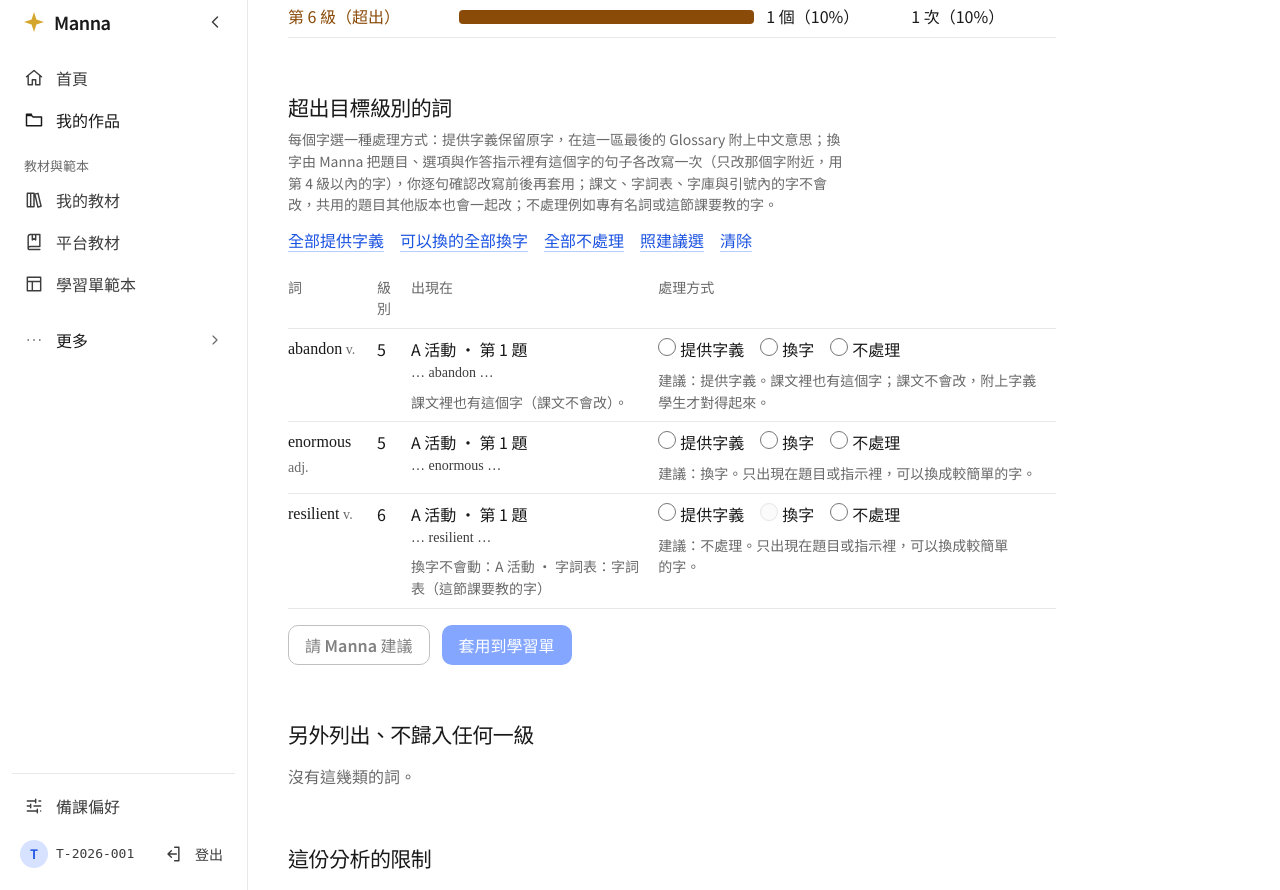
詞彙級別檢查：處理超出級別的字 › does not apply 換字 until a usable sentence is ticked
(page scrolled)
Expected: the heading "超出目標級別的詞" is shown, [288,92,452,122]
Click the radio button with aria-label "enormous：換字" at (769, 440), box [760,431,778,449]
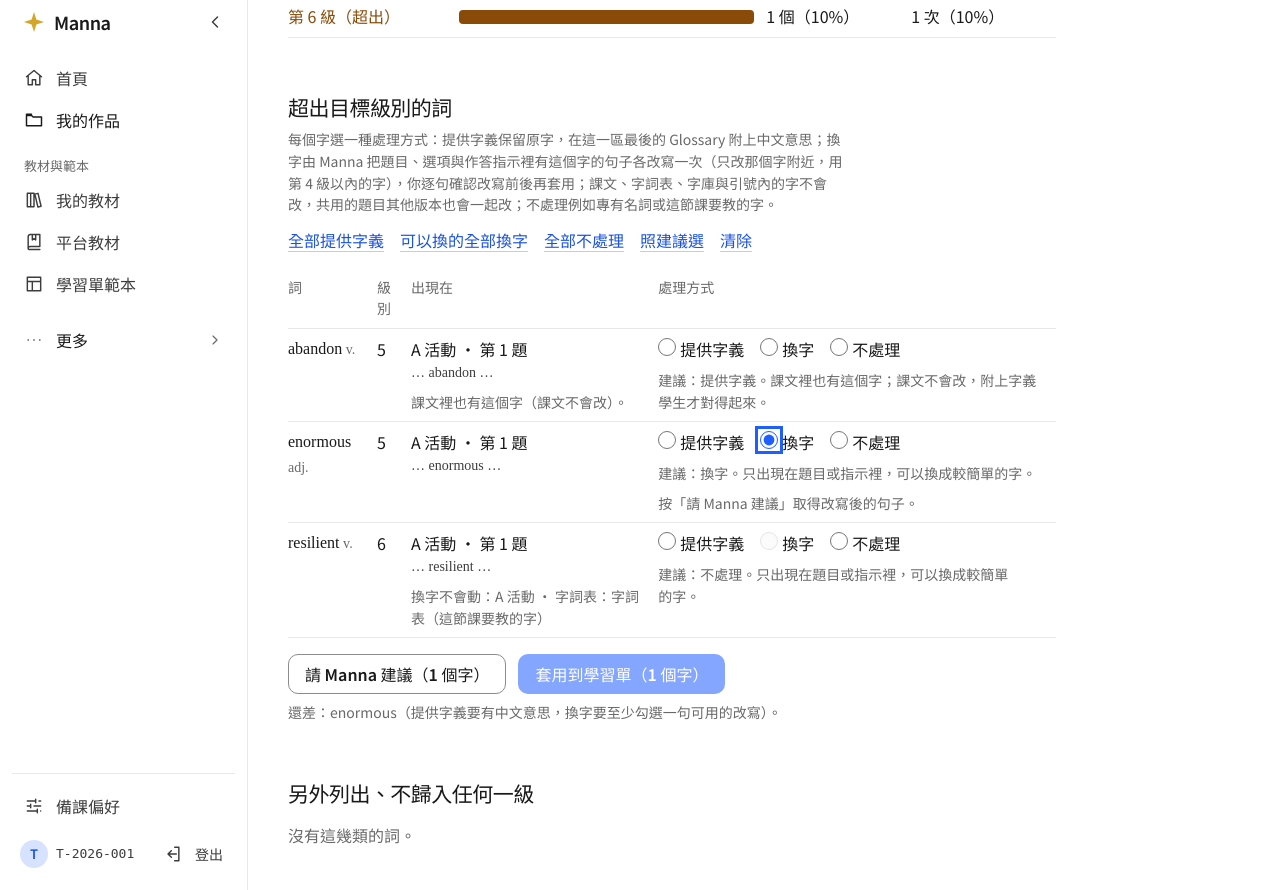
Click the button "請 Manna 建議（1 個字）" at (397, 674), box [288,654,506,694]
(page scrolled)
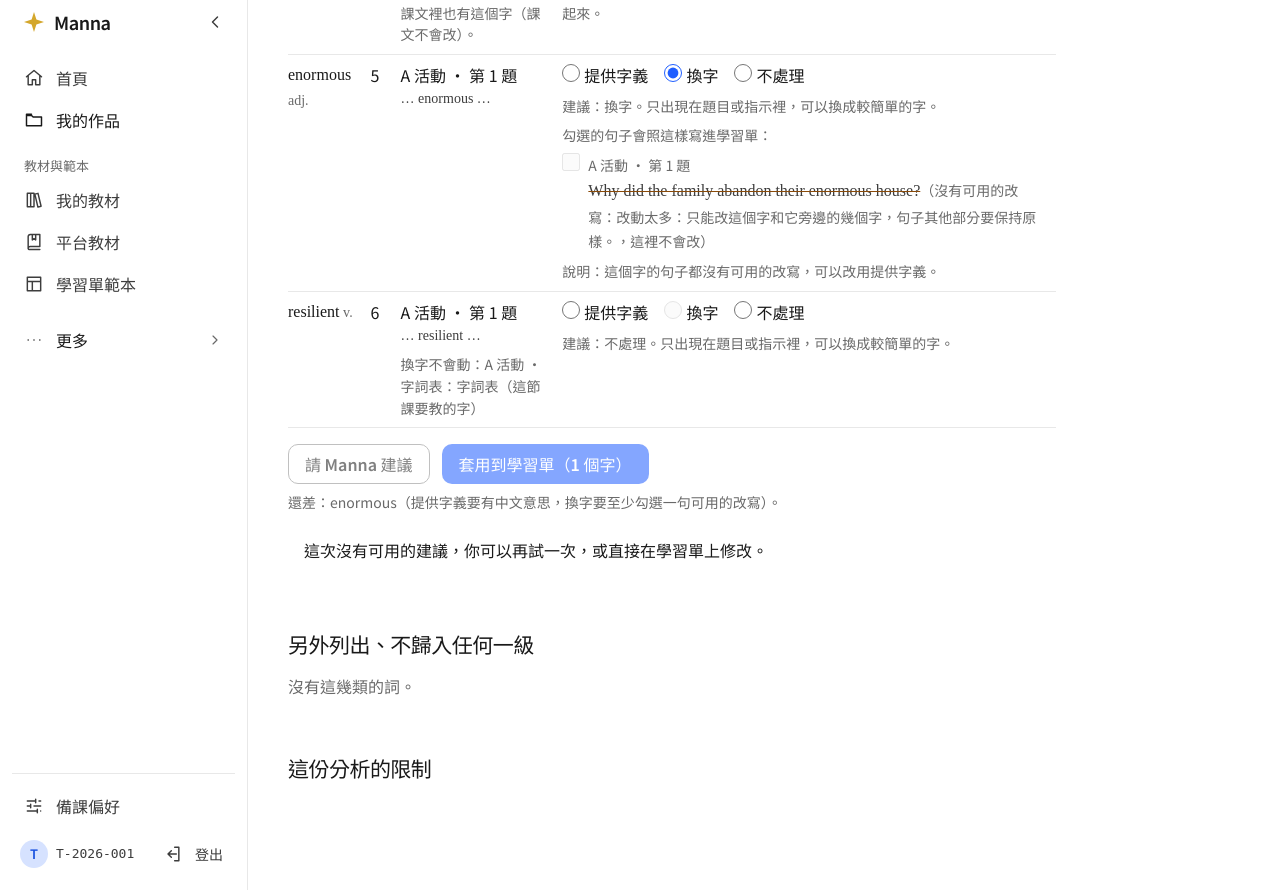
Result: the text "還差：enormous（提供字義要有中文意思，換字要至少勾選一句可用的改寫）。" is shown at [288,492,848,514]
Result: the text "（沒有可用的改寫：改動太多：只能改這個字和它旁邊的幾個字，句子其他部分要保持原樣。，這裡不會改）" is shown at [588,180,1036,251]
Result: the text "說明：這個字的句子都沒有可用的改寫，可以改用提供字義。" is shown at [562,261,940,281]
